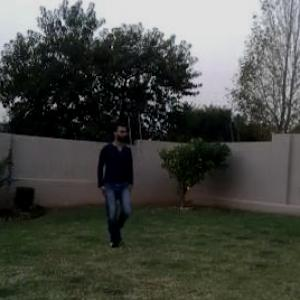follow: (93, 115, 141, 254)
